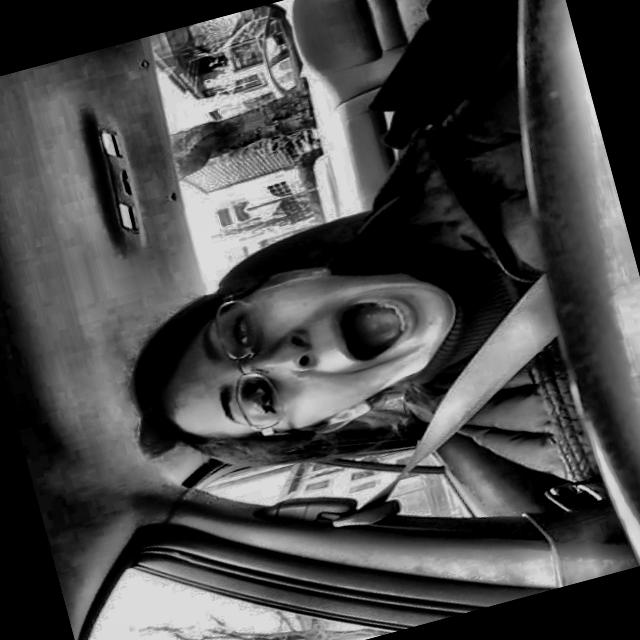open_mouth: (318, 292, 429, 371)
